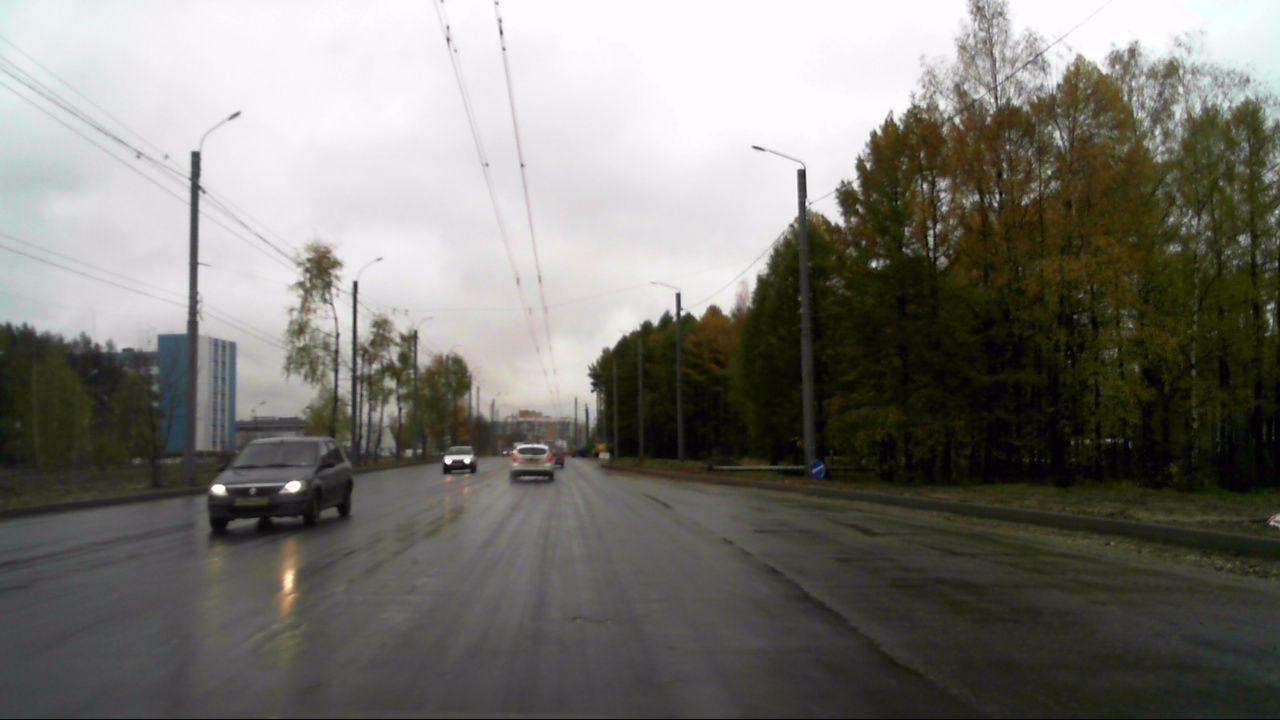road_sign: (809, 458, 826, 478)
